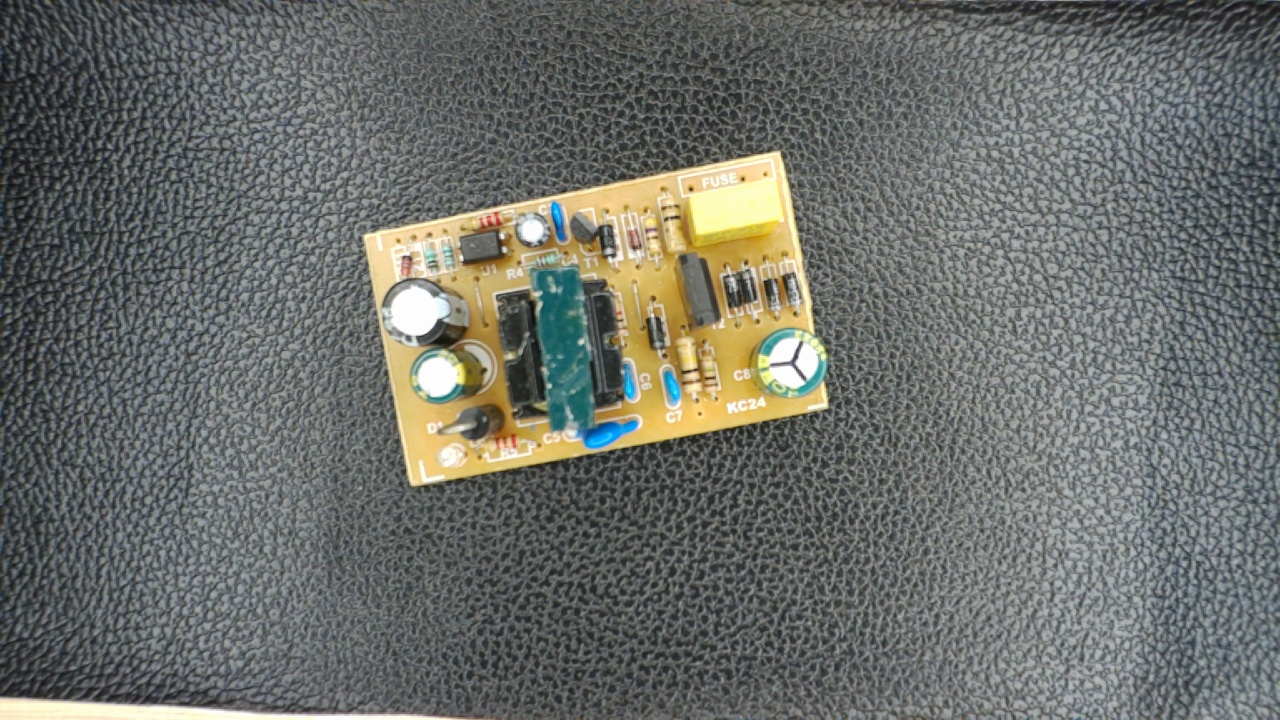hv_capacitor: (746, 327, 827, 401)
mov: (570, 416, 648, 450)
optocoupler: (452, 228, 516, 266)
